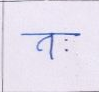aa_matra: (49, 35, 54, 61)
